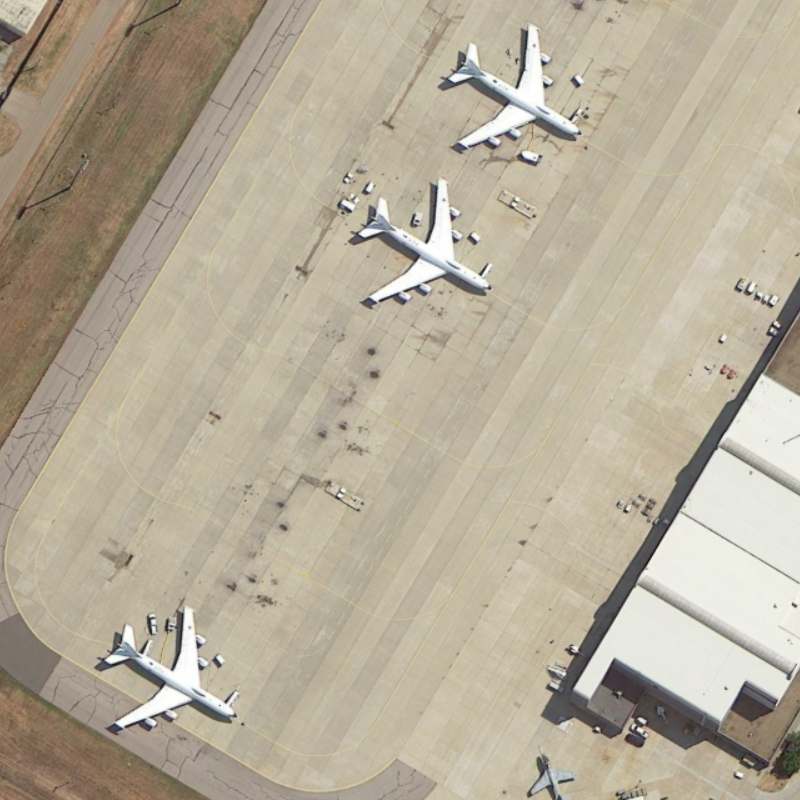A11: (436, 17, 592, 157), (347, 171, 499, 314), (93, 601, 245, 736)
